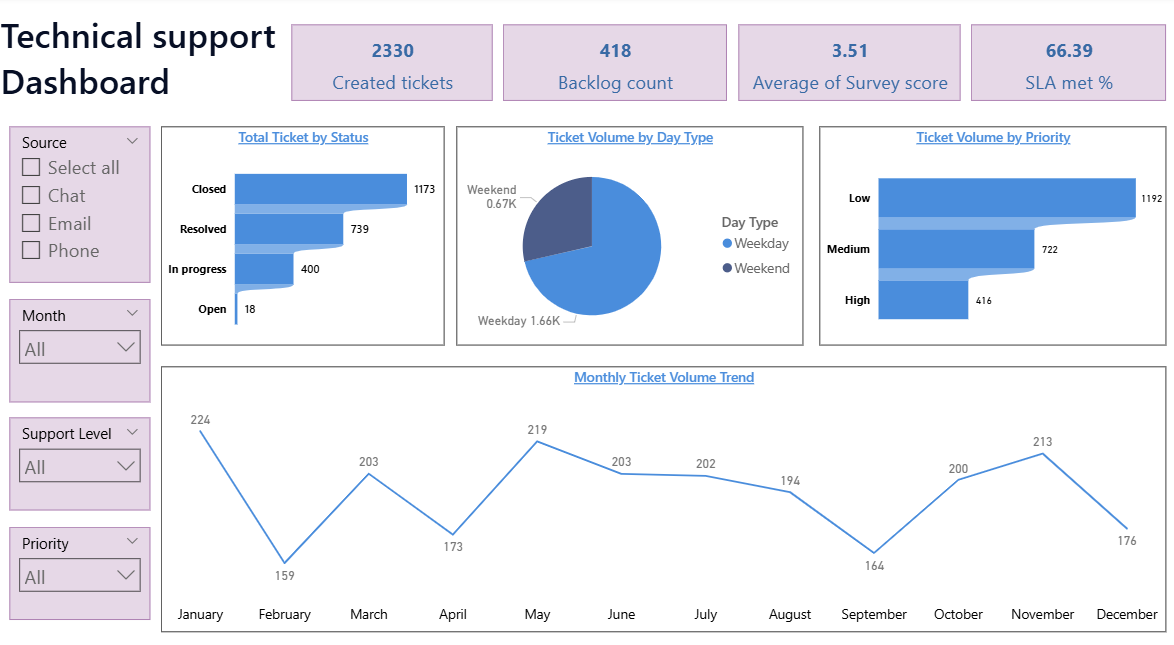

The dashboard page shown, as its layout file describes it:
{"tool":"powerbi","page":{"name":"Overview","canvas":[1280,720],"ordinal":0},"visuals":[{"type":"card","fields":{"Values":["Measure.SLA met %"]},"box":[1057.3,30.9,211.5,83],"z":0},{"type":"card","fields":{"Values":["Avg(Technical support.Survey results)"]},"box":[804.6,30.9,240.7,83],"z":1000},{"type":"card","title":"Avg resolution Time ","fields":{"Values":["Measure.Backlog count"]},"box":[550.3,30.9,242.4,83],"z":2000},{"type":"pieChart","title":"Ticket Volume by Day Type","fields":{"Category":["Technical support.DayType"],"Y":["CountNonNull(Technical support.Ticket ID)"]},"box":[499.3,141.5,375.7,237.5],"z":3000},{"type":"barChart","title":"Total Ticket by Status","fields":{"Category":["Technical support.Status"],"Y":["CountNonNull(Technical support.Ticket ID)"]},"box":[178.9,141.5,307.4,237.5],"z":4000},{"type":"barChart","title":"Ticket Volume by Priority","fields":{"Category":["Technical support.Priority"],"Y":["CountNonNull(Technical support.Ticket ID)"]},"box":[893,141.5,375.7,237.5],"z":5000},{"type":"slicer","fields":{"Values":["Technical support.Source"]},"box":[14.6,141.5,152.9,169.2],"z":6000},{"type":"card","fields":{"Values":["CountNonNull(Technical support.Ticket ID)"]},"box":[320.4,30.9,218,83],"z":7000},{"type":"textbox","box":[0,11.4,312.3,115.5],"z":8000},{"type":"slicer","fields":{"Values":["Technical support.Created date.Variation.Date Hierarchy.Month"]},"box":[14.6,328,152.9,112.2],"z":9000},{"type":"slicer","fields":{"Values":["Technical support.Agent Group"]},"box":[14.6,457.6,152.9,100.8],"z":10000},{"type":"lineChart","title":"Monthly Ticket Volume Trend","fields":{"Category":["Technical support.Created date.Variation.Date Hierarchy.Month"],"Y":["CountNonNull(Technical support.Ticket ID)"]},"box":[178.9,401.8,1089.8,287.9],"z":11000},{"type":"slicer","fields":{"Values":["Technical support.Priority"]},"box":[14.6,575.8,152.9,100.8],"z":12000}]}

Visuals, with their boxes in screenshot pixels (x1, y1, x2, y2), scaled from the page's 1280x720 canvas onto the 1174x645 screenshot:
card - Measure.SLA met %: [x1=970, y1=28, x2=1164, y2=102]
card - Avg(Technical support.Survey results): [x1=738, y1=28, x2=959, y2=102]
"Avg resolution Time " card: [x1=505, y1=28, x2=727, y2=102]
"Ticket Volume by Day Type" pieChart: [x1=458, y1=127, x2=803, y2=340]
"Total Ticket by Status" barChart: [x1=164, y1=127, x2=446, y2=340]
"Ticket Volume by Priority" barChart: [x1=819, y1=127, x2=1164, y2=340]
slicer - Technical support.Source: [x1=13, y1=127, x2=154, y2=278]
card - CountNonNull(Technical support.Ticket ID): [x1=294, y1=28, x2=494, y2=102]
textbox: [x1=0, y1=10, x2=286, y2=114]
slicer - Technical support.Created date.Variation.Date Hierarchy.Month: [x1=13, y1=294, x2=154, y2=394]
slicer - Technical support.Agent Group: [x1=13, y1=410, x2=154, y2=500]
"Monthly Ticket Volume Trend" lineChart: [x1=164, y1=360, x2=1164, y2=618]
slicer - Technical support.Priority: [x1=13, y1=516, x2=154, y2=606]
